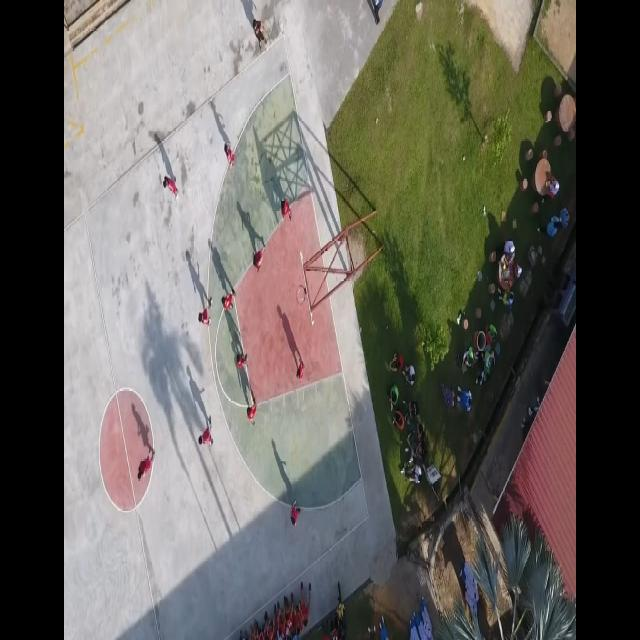humans: (136, 439, 157, 486), (250, 12, 270, 56), (195, 414, 215, 458), (162, 170, 180, 210), (388, 345, 408, 381), (398, 436, 413, 479), (219, 286, 237, 319), (233, 344, 251, 376), (249, 245, 265, 280), (195, 302, 214, 331), (277, 193, 294, 222), (388, 377, 402, 410), (223, 136, 235, 172), (289, 500, 302, 530), (394, 409, 406, 440), (246, 399, 260, 425), (295, 359, 306, 383)
